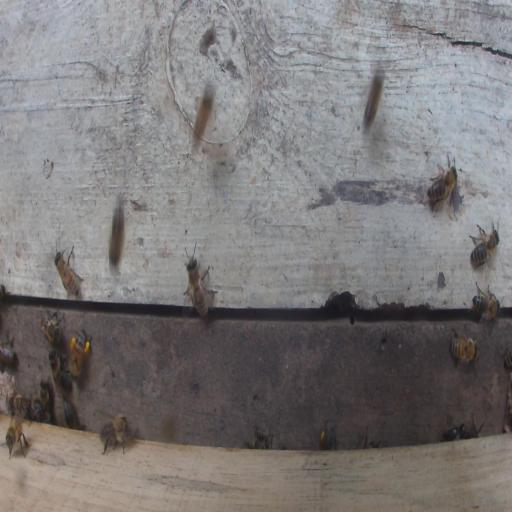nonpollenbee: (425, 156, 460, 210), (184, 254, 211, 322), (54, 244, 85, 299), (469, 221, 500, 272), (363, 67, 386, 133), (99, 413, 132, 455), (192, 87, 214, 142), (449, 325, 479, 364), (471, 282, 500, 322), (5, 415, 30, 460), (109, 199, 124, 273), (50, 352, 73, 396), (245, 428, 274, 449), (10, 392, 33, 418), (0, 337, 18, 367), (40, 379, 52, 423), (40, 317, 59, 343), (63, 399, 79, 428), (501, 347, 512, 369), (33, 397, 43, 421), (442, 427, 458, 441), (459, 423, 473, 438)
pollenbee: (70, 329, 90, 381), (320, 426, 334, 450)
